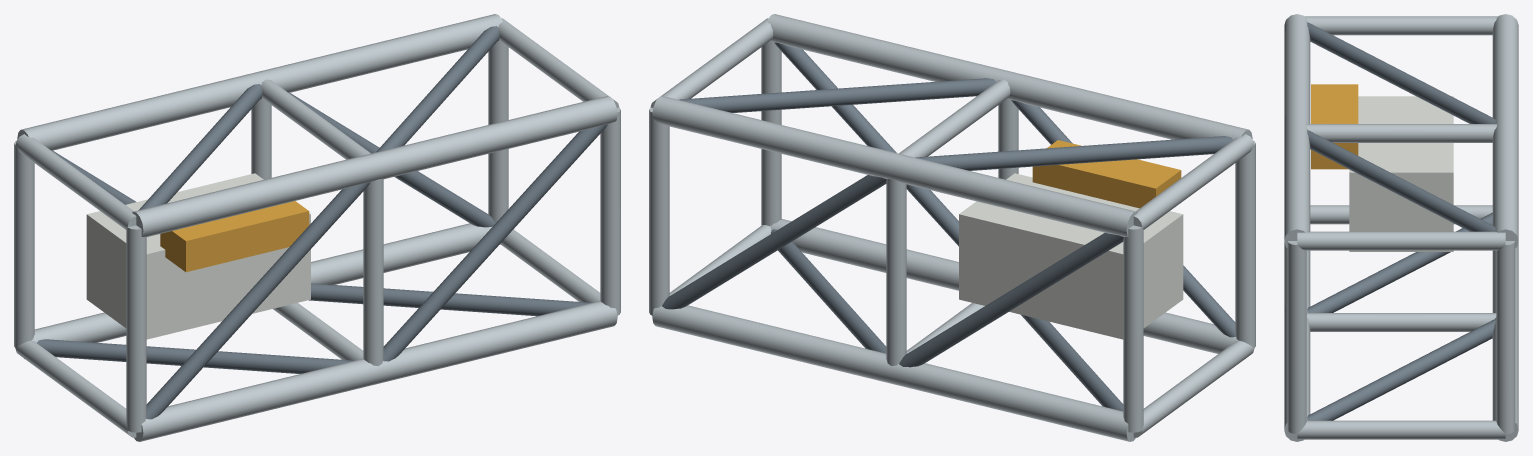
The model's file is iss_truss.s6.glb.
3 views of the same model, side by side, from view 1: azimuth 30°, elevation 25°; view 2: azimuth 150°, elevation 25°; view 3: azimuth 270°, elevation 25° (orthographic). The views are drawn at different scales.
Visible parts, largest first — view 1: iss_truss.s6.mesh_Satin_aluminum, iss_truss.s6.mesh_Machined_steel, iss_truss.s6.mesh_Pale_thermal_blanket, iss_truss.s6.mesh_Gold_thermal_insulation; view 2: iss_truss.s6.mesh_Satin_aluminum, iss_truss.s6.mesh_Machined_steel, iss_truss.s6.mesh_Pale_thermal_blanket, iss_truss.s6.mesh_Gold_thermal_insulation; view 3: iss_truss.s6.mesh_Satin_aluminum, iss_truss.s6.mesh_Machined_steel, iss_truss.s6.mesh_Pale_thermal_blanket, iss_truss.s6.mesh_Gold_thermal_insulation.
Boxes of the visible parts, left/top/right/bottom form: iss_truss.s6.mesh_Satin_aluminum: left=14, top=14, right=620, bottom=441; iss_truss.s6.mesh_Machined_steel: left=37, top=26, right=607, bottom=419; iss_truss.s6.mesh_Pale_thermal_blanket: left=86, top=173, right=310, bottom=339; iss_truss.s6.mesh_Gold_thermal_insulation: left=160, top=201, right=309, bottom=272; iss_truss.s6.mesh_Satin_aluminum: left=649, top=14, right=1255, bottom=441; iss_truss.s6.mesh_Machined_steel: left=662, top=42, right=1235, bottom=411; iss_truss.s6.mesh_Pale_thermal_blanket: left=959, top=173, right=1183, bottom=339; iss_truss.s6.mesh_Gold_thermal_insulation: left=1032, top=140, right=1181, bottom=208; iss_truss.s6.mesh_Satin_aluminum: left=1284, top=14, right=1518, bottom=441; iss_truss.s6.mesh_Machined_steel: left=1307, top=22, right=1495, bottom=420; iss_truss.s6.mesh_Pale_thermal_blanket: left=1349, top=96, right=1453, bottom=251; iss_truss.s6.mesh_Gold_thermal_insulation: left=1311, top=84, right=1358, bottom=169.
Size of the model in its own units: 4.46 by 1.98 by 1.98.
